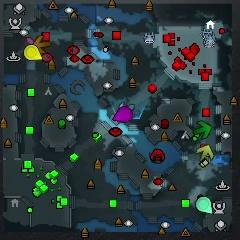p2: (196, 196, 212, 213)
p3: (113, 107, 132, 123)
p4: (24, 44, 42, 60)
x1: (26, 37, 34, 45)
x2: (196, 145, 214, 162)
x3: (119, 102, 135, 118)
x4: (194, 121, 211, 139)
x5: (34, 35, 52, 54)
